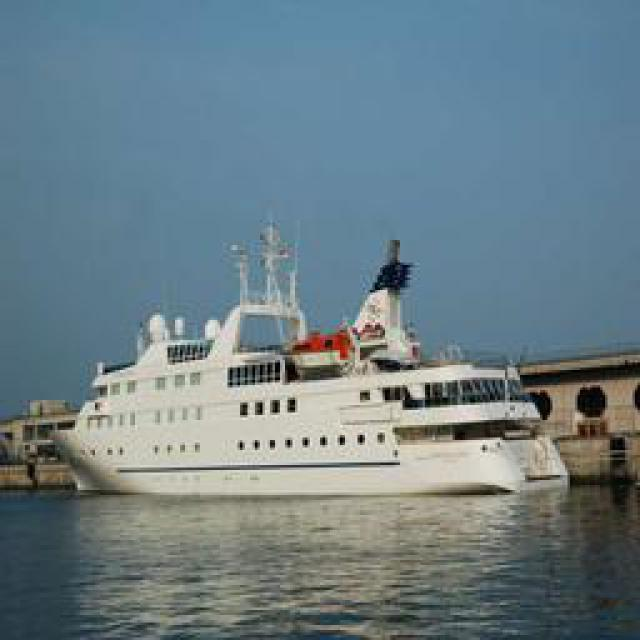Ship: (46, 195, 559, 495)
